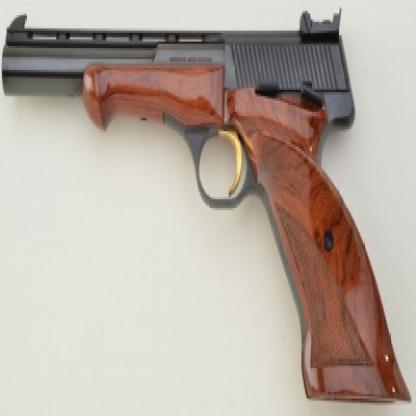Guns: (0, 6, 415, 414)
